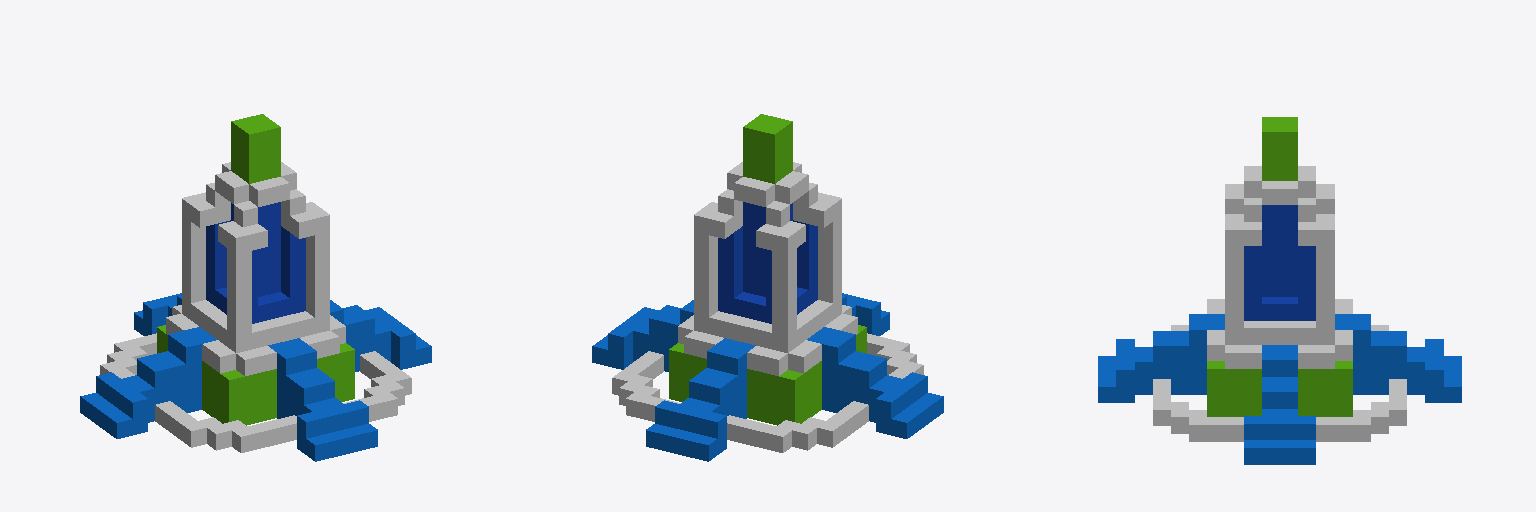
3 views of the same model, side by side, from view 1: azimuth 30°, elevation 25°; view 2: azimuth 150°, elevation 25°; view 3: azimuth 270°, elevation 25° (orthographic).
Size of the model in its own units: 20 by 16 by 20.
Materials: 1 (1 with a texture image).